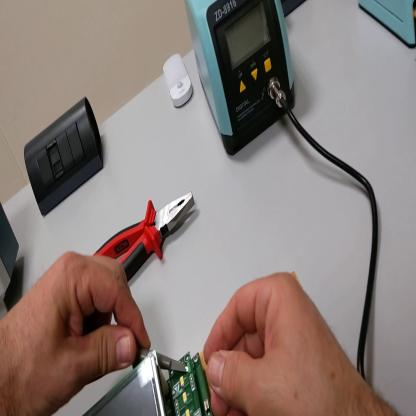hand: (1, 249, 152, 416), (206, 274, 358, 415)
low voltage board: (86, 351, 214, 416)
oscilloscope: (1, 201, 20, 316)
oscilloscope probe tip: (134, 347, 188, 379)
pliers: (93, 183, 196, 284)
socket: (282, 1, 306, 18)
welder base: (361, 2, 416, 50)
welder station: (186, 1, 297, 162)
working area: (199, 343, 216, 398)
